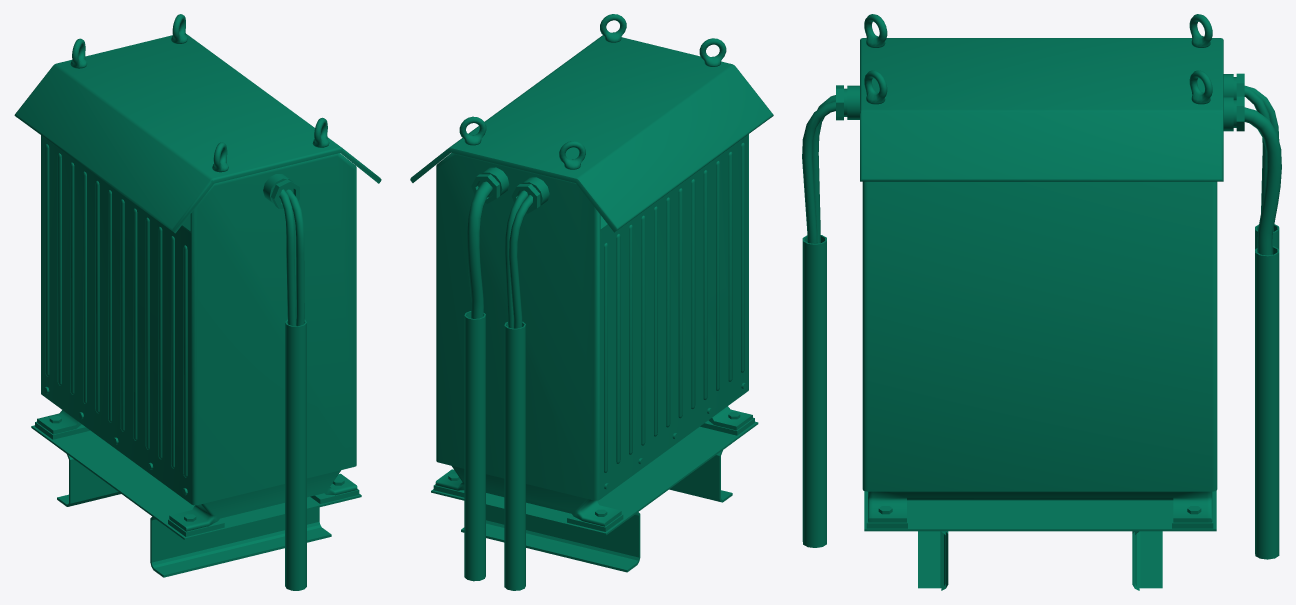
Rendered from Engine10.fbx.
The picture shows the model from 3 angles, left to right: view 1: azimuth 30°, elevation 25°; view 2: azimuth 150°, elevation 25°; view 3: azimuth 270°, elevation 25°; orthographic projection. The views are drawn at different scales.
Parts seen in each view (by area): view 1: Stuff.005; view 2: Stuff.005; view 3: Stuff.005.
Part boxes in pixels (box(x1,y1,x2,y2)): Stuff.005: box(14, 14, 381, 590); Stuff.005: box(410, 14, 773, 590); Stuff.005: box(802, 14, 1281, 590).
Bounding box in the file's own units: 54.79 × 110 × 94.77.
